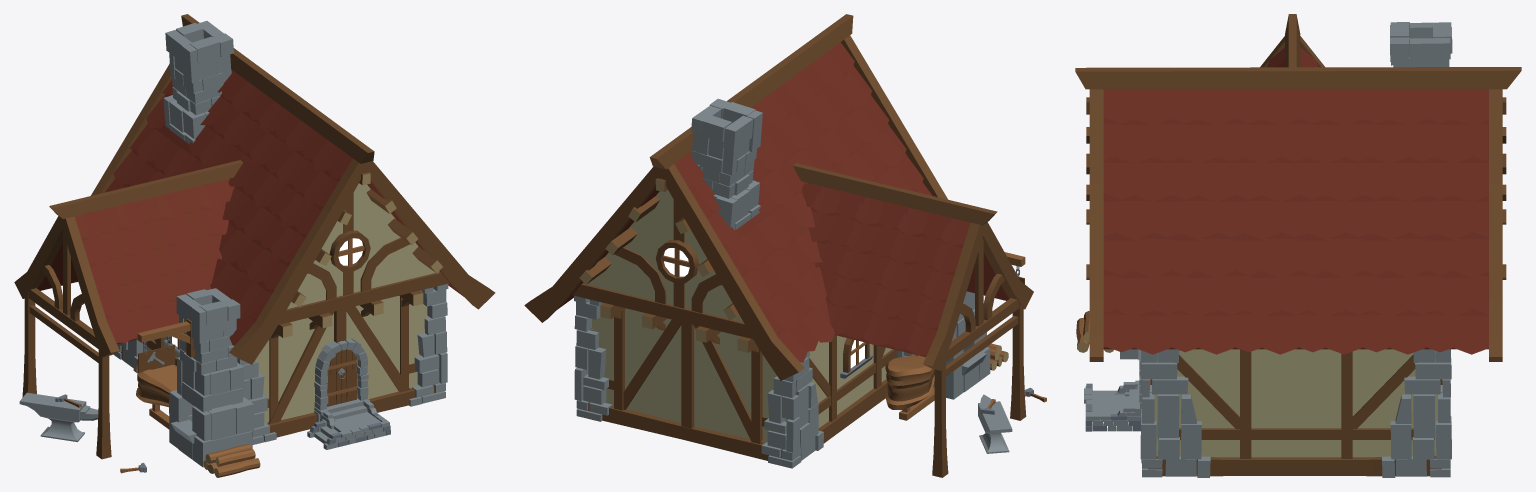
The model's file is blacksmith.glb.
3 renders of one model, left to right at view 1: azimuth 30°, elevation 25°; view 2: azimuth 150°, elevation 25°; view 3: azimuth 270°, elevation 25°, orthographic. The views are drawn at different scales.
Parts seen in each view (by area): view 1: Blacksmith; view 2: Blacksmith; view 3: Blacksmith.
Part boxes in pixels (x1,y1,x2,y2): Blacksmith: [14, 14, 495, 477]; Blacksmith: [524, 14, 1046, 477]; Blacksmith: [1075, 14, 1521, 477].
Bounding box in the file's own units: 11.67 × 9.01 × 9.85.
